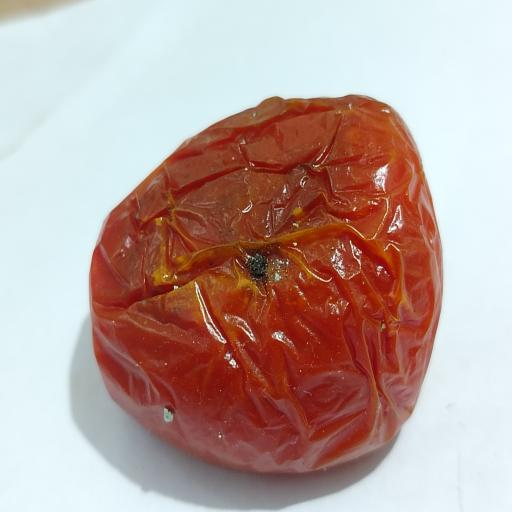spoiled: (90, 96, 442, 473)
